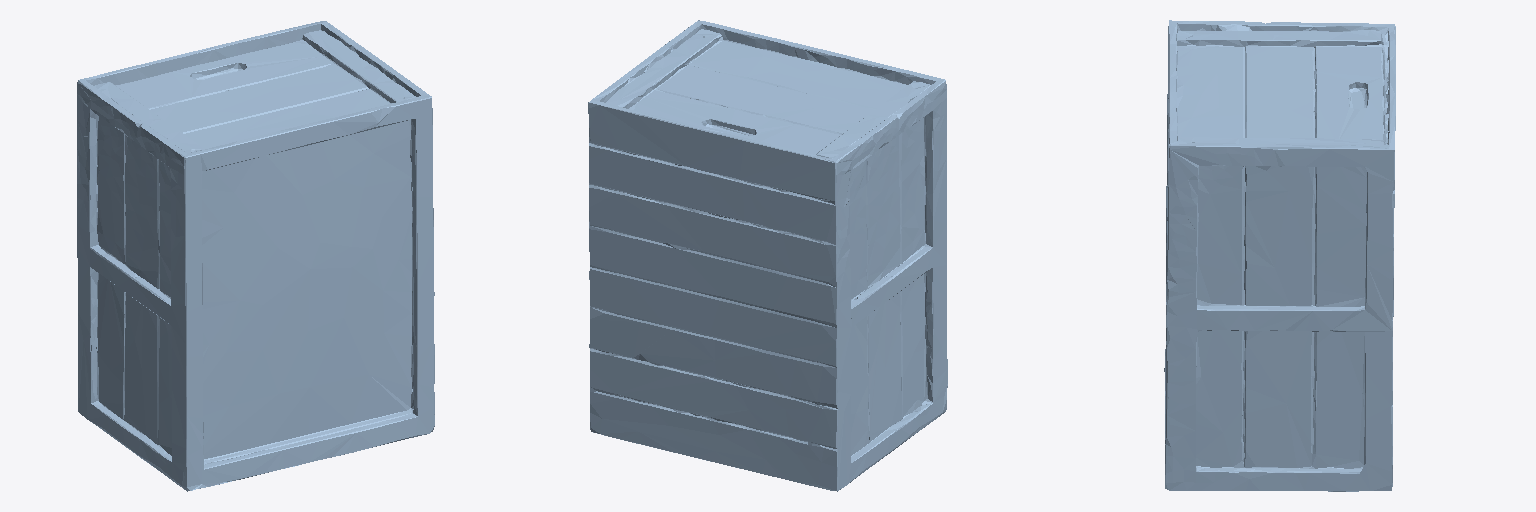
URDF robot description (Box021):
<?xml version="1.0" ?>
<robot name="Box021">
  <dynamics damping="0.5" friction="0.9"/>
  <link name="Box021_link">
    <inertial>
      <mass value="1.0"/>
      <origin xyz="0 0 0"/>
      <inertia ixx="0.01" ixy="0" ixz="0" iyy="0.01" iyz="0" izz="0.01"/>
    </inertial>
    <visual>
      <origin rpy="0 0 0" xyz="0 0 0"/>
      <geometry>
        <mesh filename="Box021.obj" scale="1.0 1.0 1.0"/>
      </geometry>
      <material name="mat">
        <color rgba="0.7 0.8 0.9 0.7"/>
      </material>
    </visual>
    <collision name="Box021">
      <origin rpy="0 0 0" xyz="0 0 0"/>
      <geometry>
        <mesh filename="Box021.obj" scale="1.0 1.0 1.0"/>
      </geometry>
    </collision>
  </link>
</robot>

--- Facts derived from the render (not from the file) ---
Views: 3 orthographic renders of the robot side by side, from view 1: azimuth 30°, elevation 25°; view 2: azimuth 150°, elevation 25°; view 3: azimuth 270°, elevation 25°.
Robot: Box021 — 1 links, 0 joints (none); root link Box021_link; default pose: all joints at 0.
Visible links, largest first — view 1: Box021_link; view 2: Box021_link; view 3: Box021_link.
Boxes of the visible links, x1,y1,x2,y2 form: Box021_link: [77, 21, 434, 491]; Box021_link: [588, 20, 947, 491]; Box021_link: [1164, 20, 1395, 491].
Bounding box of the posed robot: 0.391 × 0.3031 × 0.5001 m (x, y, z).
Meshes: 1 distinct files referenced, 1 mesh visuals loaded (1 OBJ).
